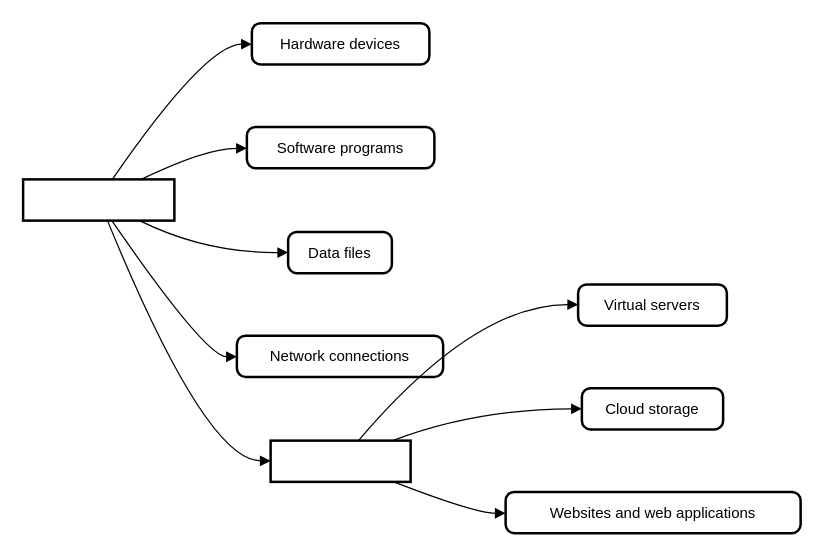
Image size: 823x555. Some labels were removed from this diagram. The centre of each missing label's shape, as x and y in pixels:
Internet assets: the point at 98,199
Virtual assets: the point at 340,460
